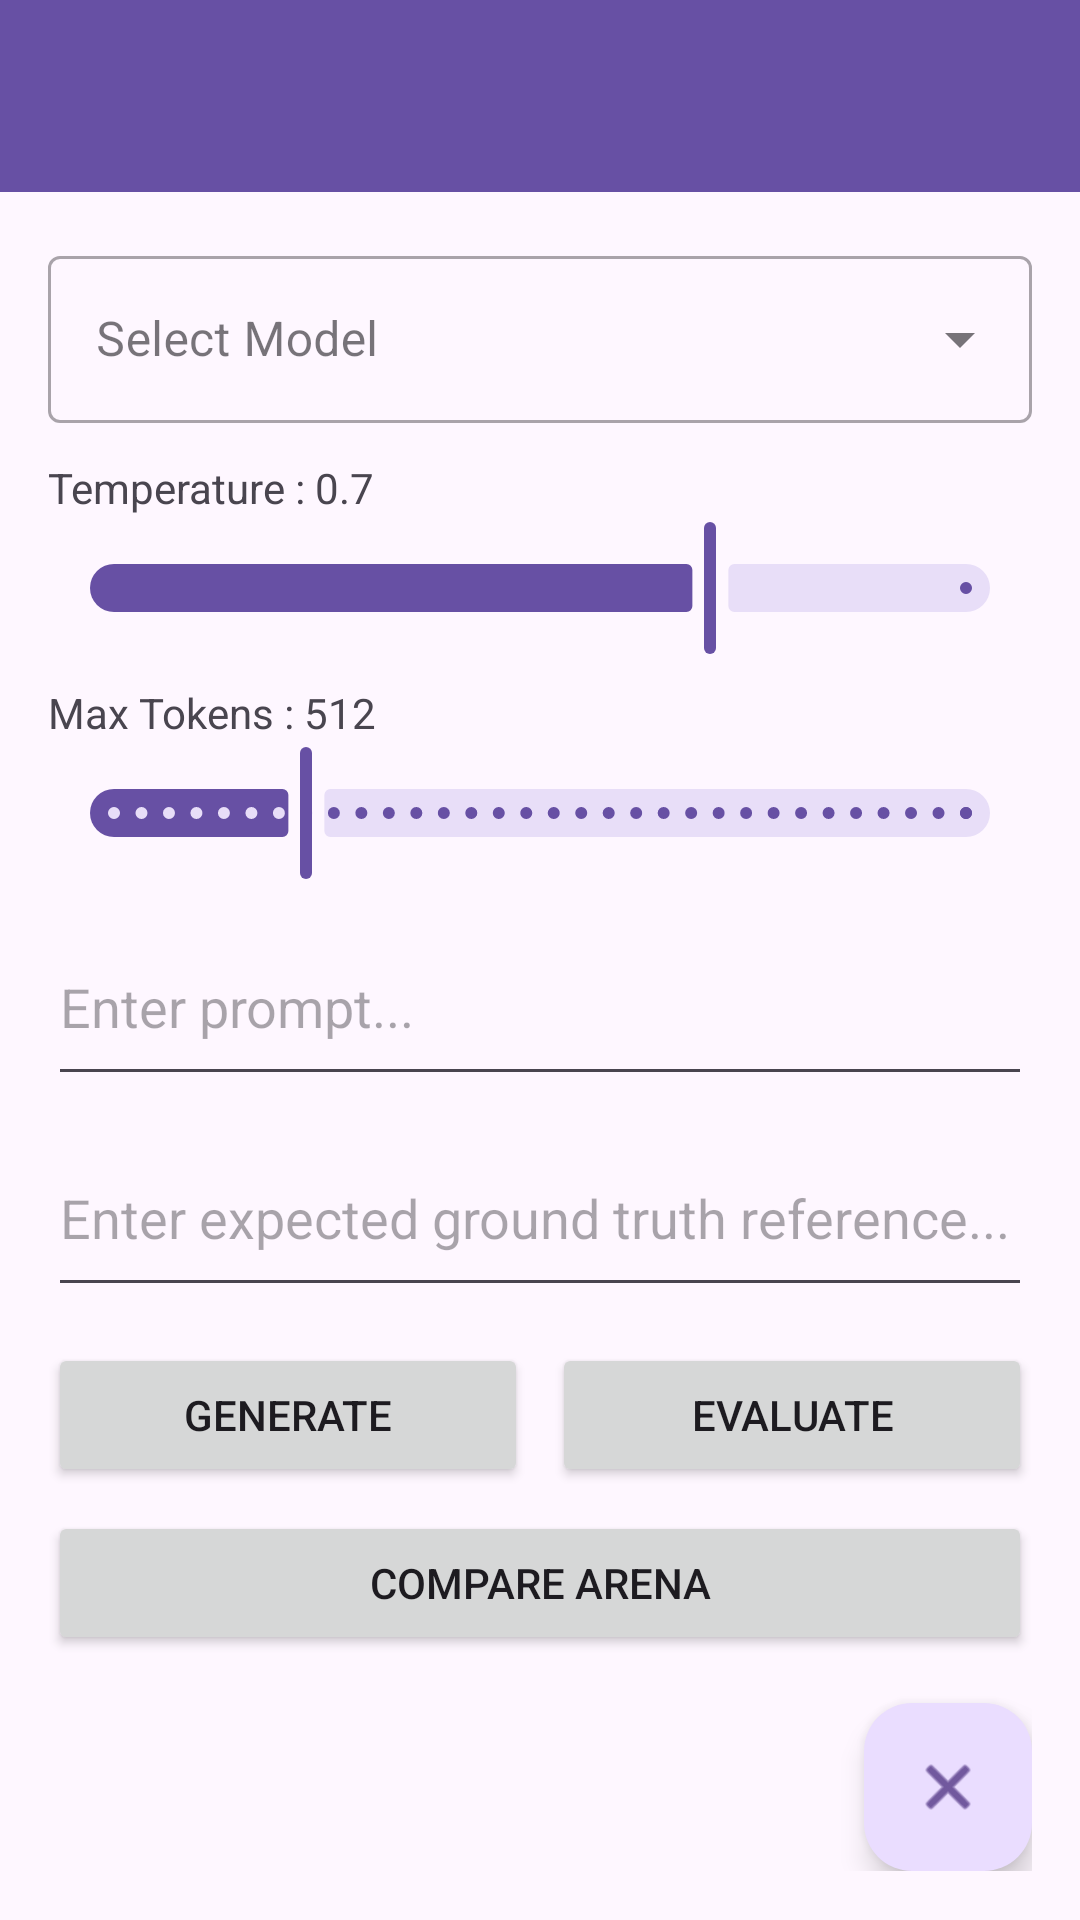

Where icons sit on this 1080x1920 app screen, as (left=x1, top=y1, right=x2, bottom=y2):
Clear: (left=864, top=1703, right=1032, bottom=1871)
